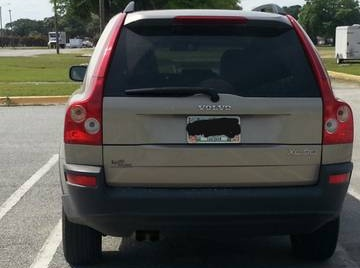volvo: (31, 4, 358, 268)
